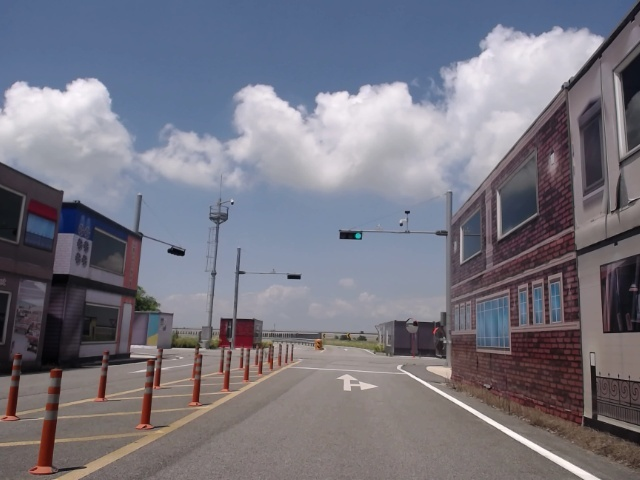green_3: (341, 231, 361, 239)
